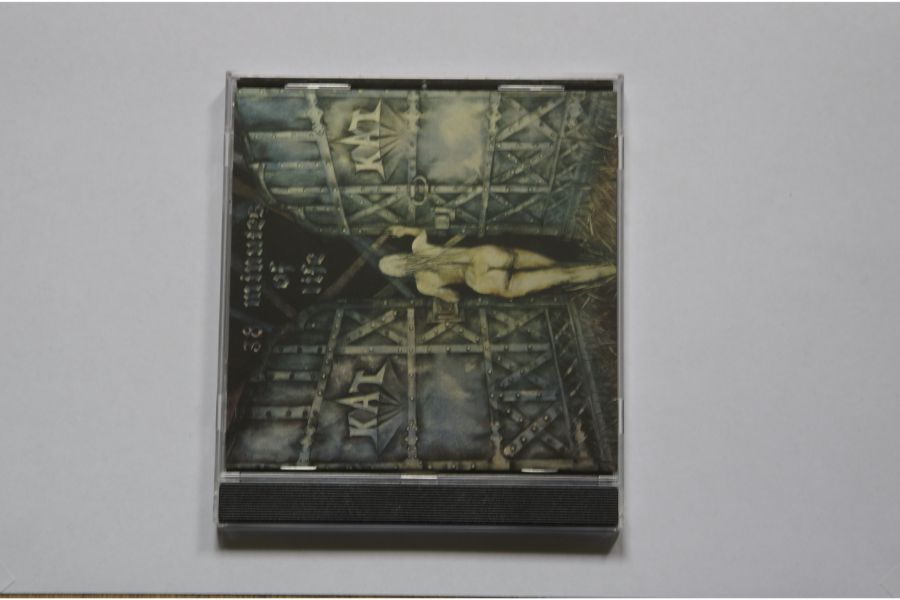album: (213, 70, 622, 540)
